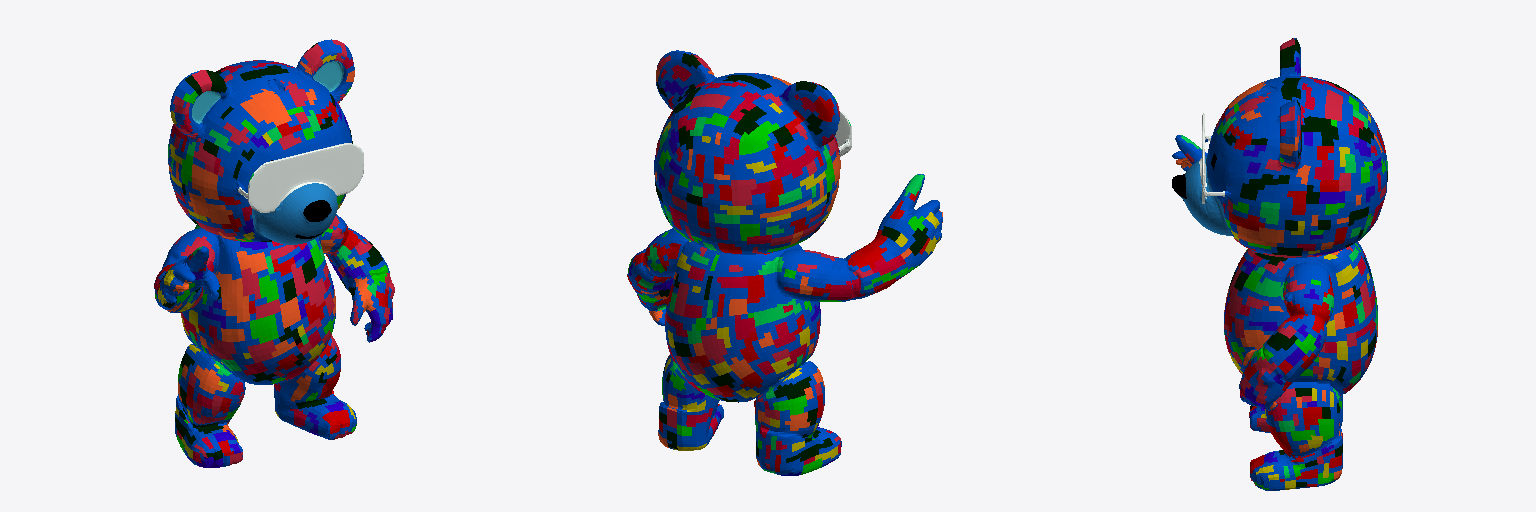
File: teddy1.obj
3 renders of one model, left to right at view 1: azimuth 30°, elevation 25°; view 2: azimuth 150°, elevation 25°; view 3: azimuth 270°, elevation 25°, orthographic.
Visible parts, largest first — view 1: model; view 2: model; view 3: model.
Part boxes in pixels (x1,y1,x2,y2): model: (154,39,394,467); model: (627,50,942,475); model: (1172,38,1387,490).
Size of the model in its own units: 1.37 by 1.9 by 0.9733.